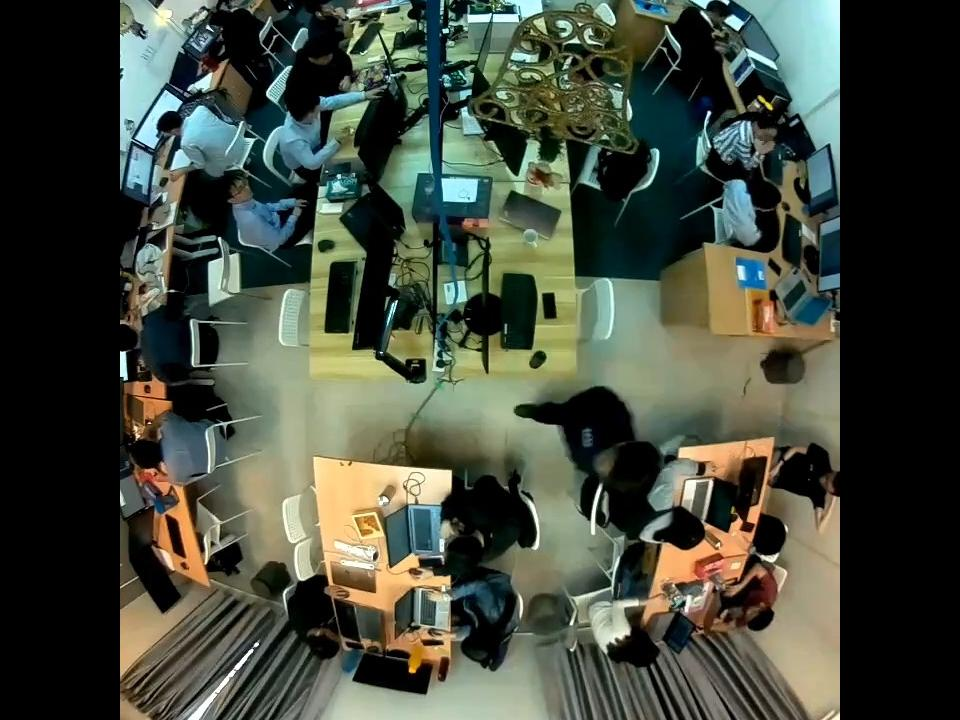name-tag: (580, 423, 594, 448)
